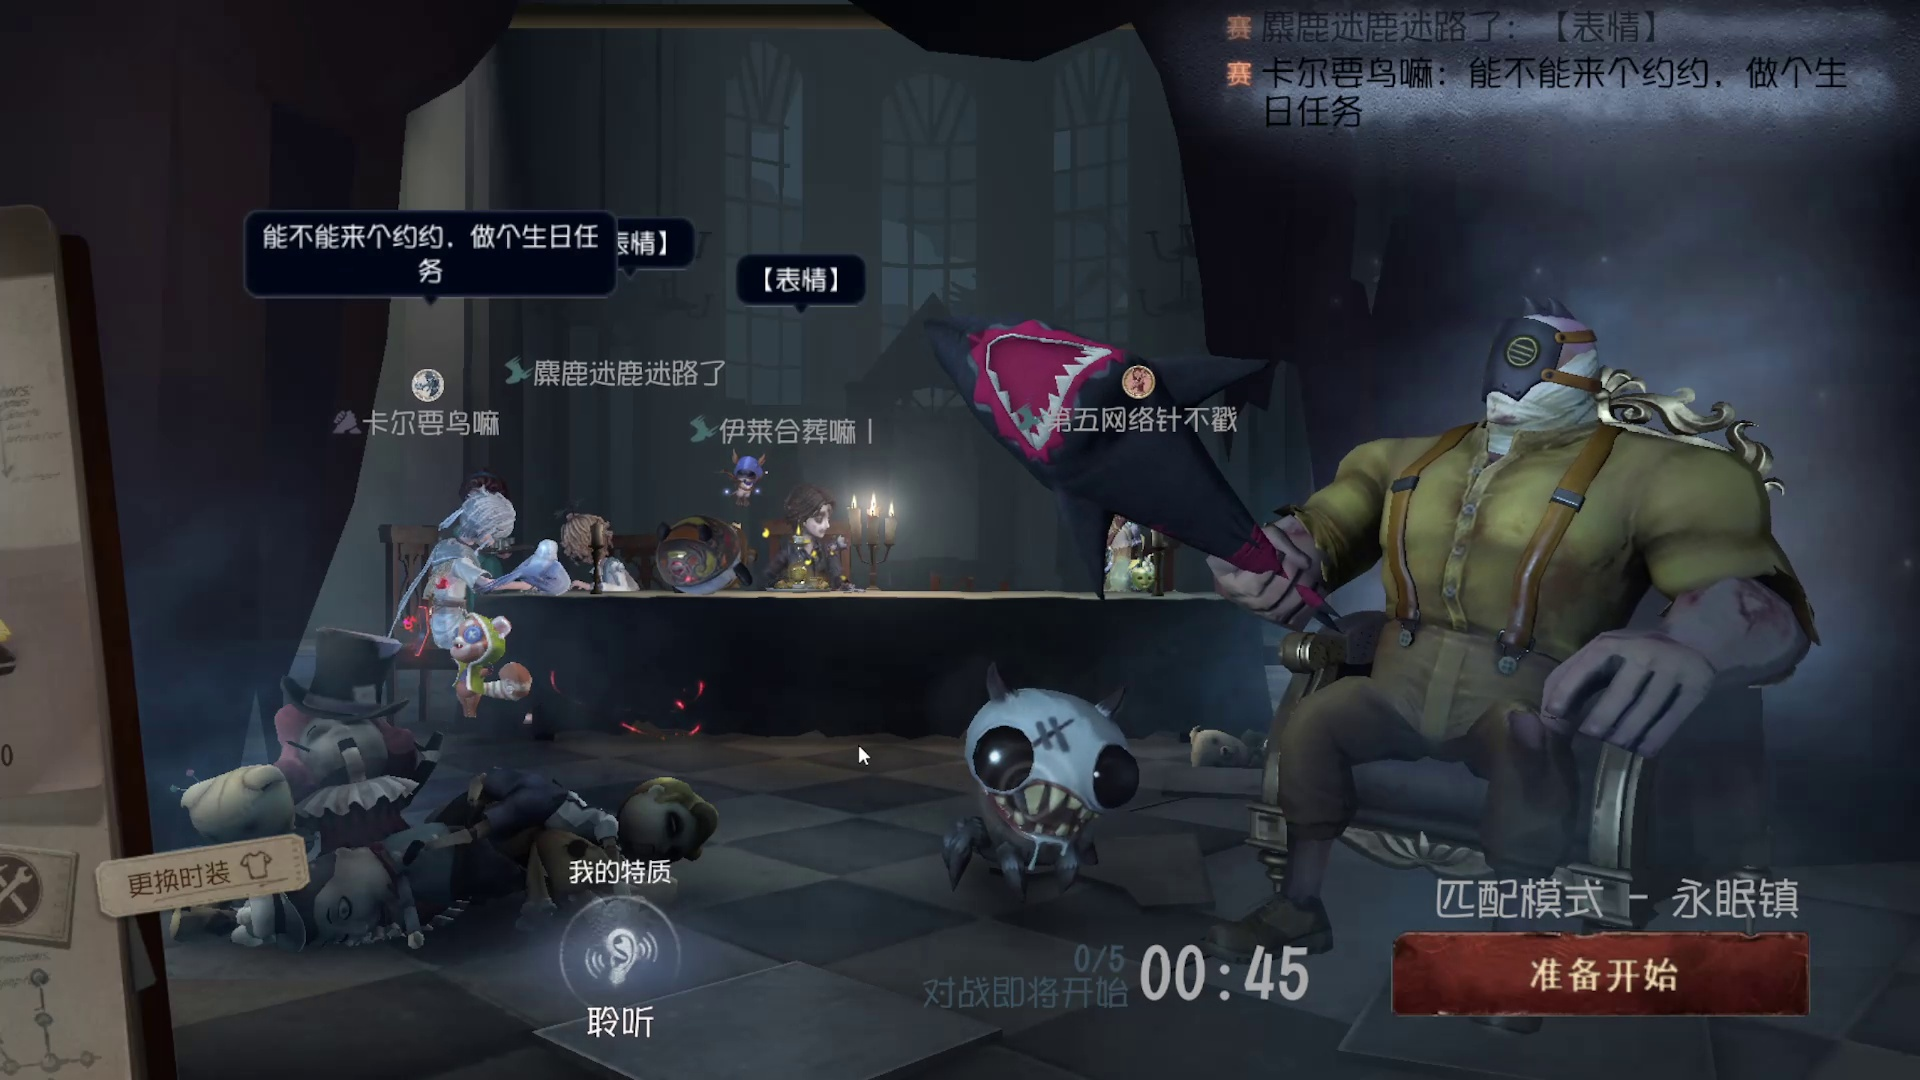准备开始: (1385, 914, 1849, 1027)
